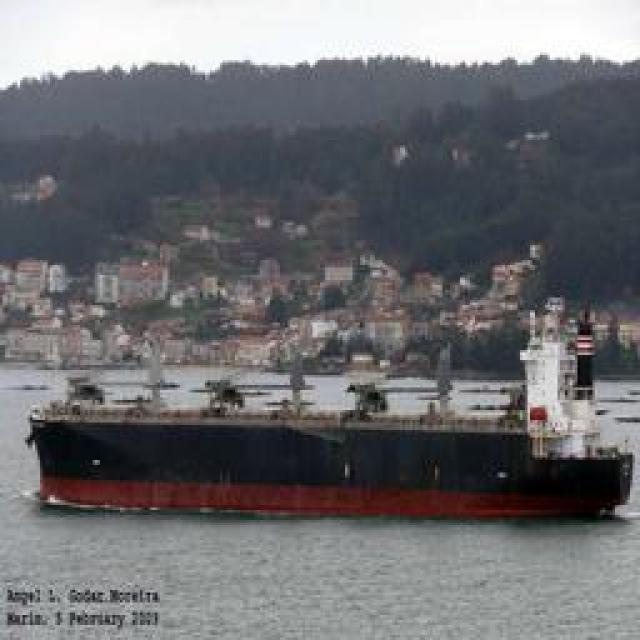CIV_Ship: (10, 366, 635, 522)
